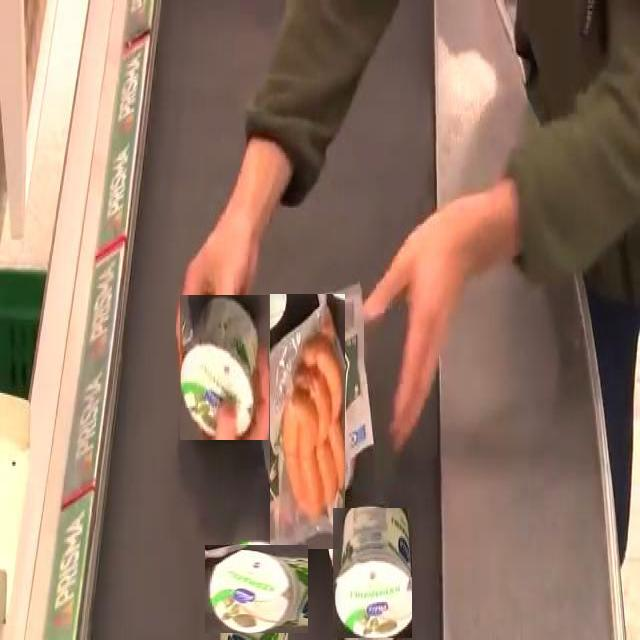food-box: (269, 294, 345, 550), (180, 294, 270, 440), (332, 507, 412, 638), (208, 540, 304, 636)
